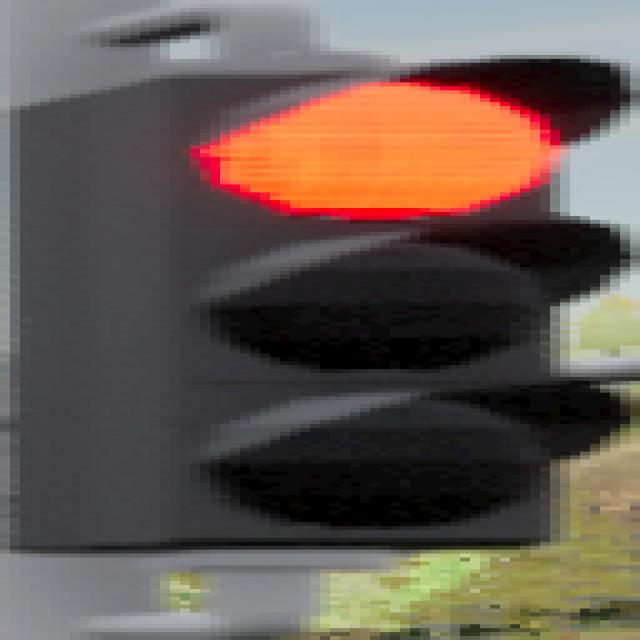red_light: (8, 53, 640, 569)
